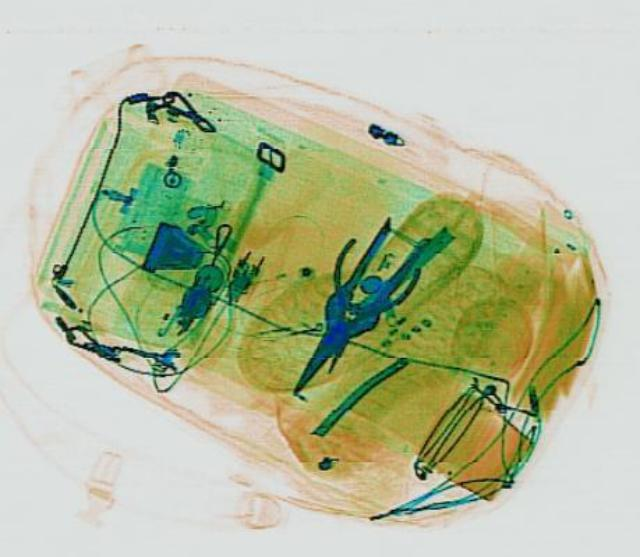Pliers: (280, 235, 424, 386)
